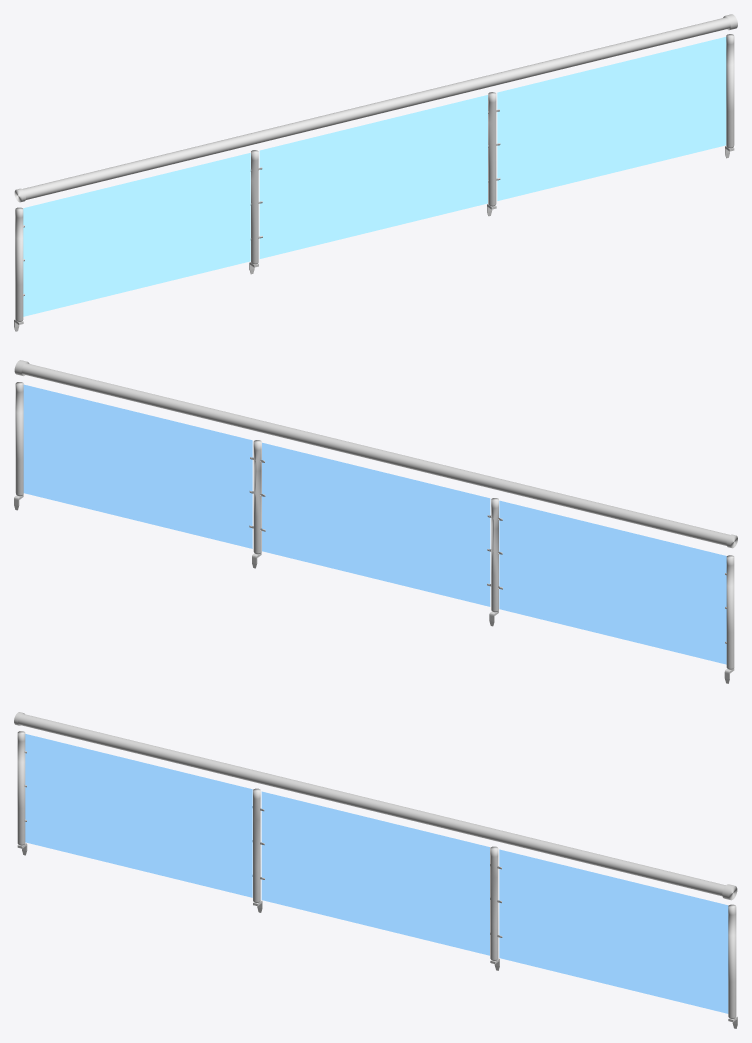
The model's file is railing.glb.
The picture shows the model from 3 angles, top to bottom: view 1: azimuth 30°, elevation 25°; view 2: azimuth 150°, elevation 25°; view 3: azimuth 330°, elevation 25°; orthographic projection.
Parts seen in each view (by area): view 1: Plane.033, Plane.032, Plane.014, Cylinder.005, TwistedTorus.009, Plane.031, Plane.034, TwistedTorus.008; view 2: Plane.033, Plane.032, Plane.014, Cylinder.005, TwistedTorus.009, Plane.031, Plane.034, TwistedTorus.008; view 3: Plane.033, Plane.032, Plane.014, Cylinder.005, TwistedTorus.009, Plane.031, Plane.034, TwistedTorus.008.
Boxes of the visible parts, <box> form: Plane.033: <box>497,37,726,200</box>; Plane.032: <box>259,95,487,258</box>; Plane.014: <box>23,153,250,316</box>; Cylinder.005: <box>14,14,737,202</box>; TwistedTorus.009: <box>487,92,500,216</box>; Plane.031: <box>14,207,24,331</box>; Plane.034: <box>725,34,734,158</box>; TwistedTorus.008: <box>249,150,262,274</box>; Plane.033: <box>23,384,252,548</box>; Plane.032: <box>262,442,490,606</box>; Plane.014: <box>499,500,726,664</box>; Cylinder.005: <box>14,360,737,548</box>; TwistedTorus.009: <box>249,440,265,568</box>; Plane.031: <box>724,555,734,683</box>; Plane.034: <box>14,382,23,510</box>; TwistedTorus.008: <box>487,498,502,626</box>; Plane.033: <box>499,849,728,1013</box>; Plane.032: <box>261,791,489,955</box>; Plane.014: <box>25,734,252,897</box>; Cylinder.005: <box>14,712,737,900</box>; TwistedTorus.009: <box>490,846,502,970</box>; Plane.031: <box>17,731,27,855</box>; Plane.034: <box>728,904,737,1028</box>; TwistedTorus.008: <box>252,788,264,912</box>.
Size of the model in its own units: 7.11 by 1.38 by 0.1525.
